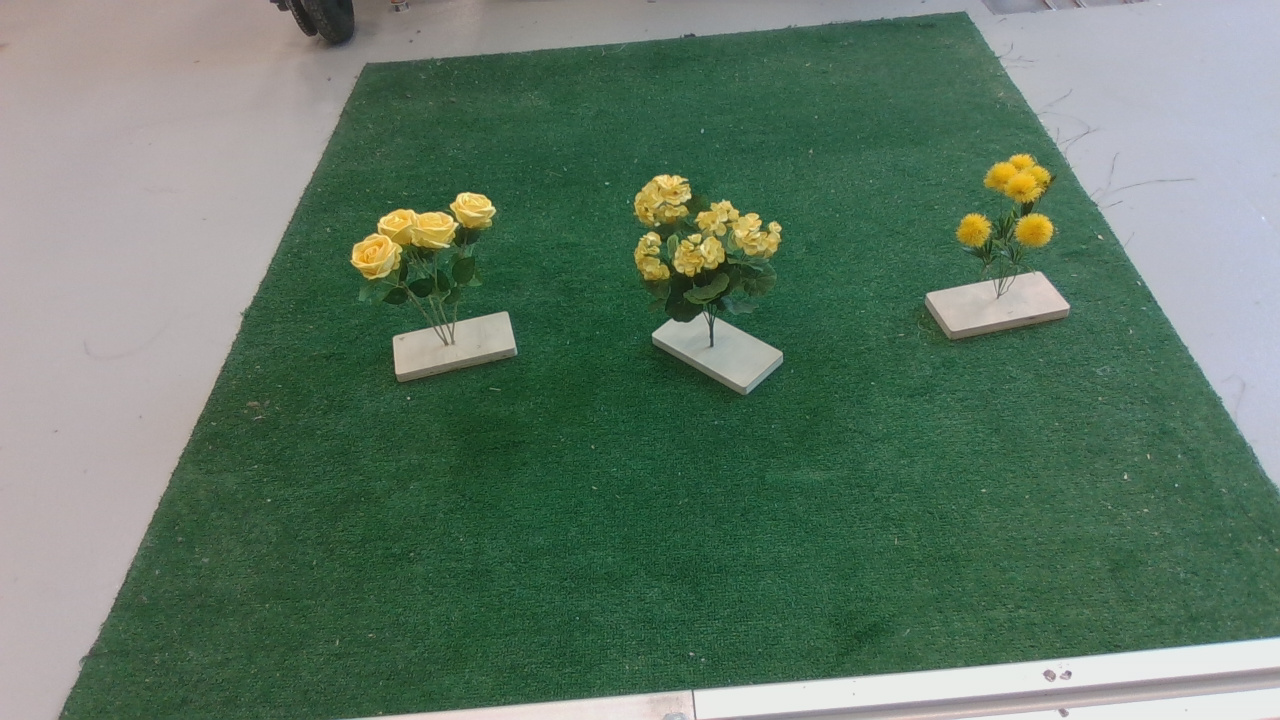dandelion: (949, 155, 1070, 277)
geranium: (628, 166, 794, 335)
rose: (352, 193, 521, 324)
